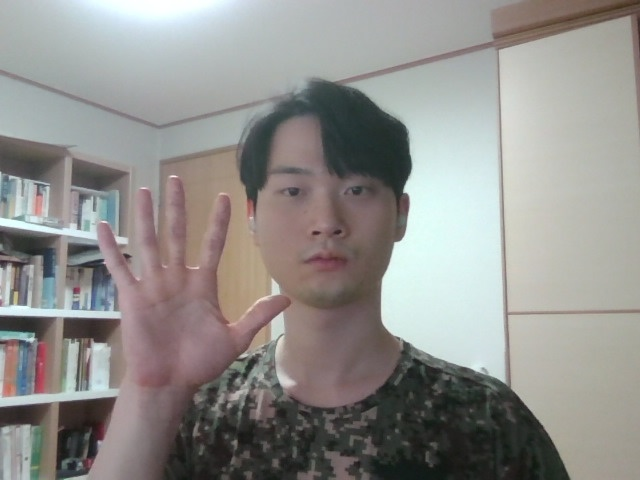hello: (62, 162, 300, 417)
